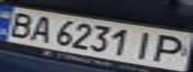1: (109, 26, 133, 57)
2: (69, 20, 93, 52)
3: (90, 24, 112, 54)
6: (51, 17, 78, 47)
A: (24, 14, 57, 44)
B: (0, 9, 39, 38)
I: (130, 29, 160, 61)
P: (148, 33, 190, 64)
